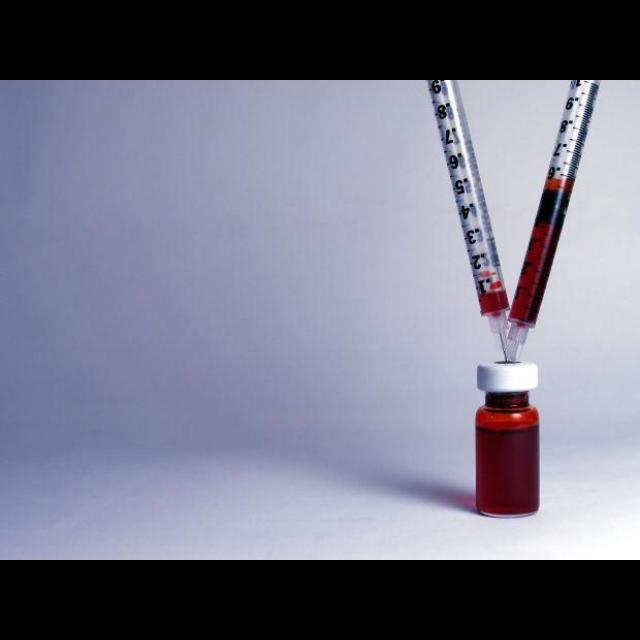blood: (510, 179, 576, 326), (477, 392, 541, 518), (479, 291, 510, 314)
